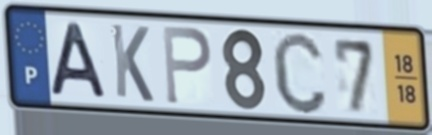7: (331, 37, 378, 115)
8: (219, 26, 269, 113)
A: (48, 19, 110, 102)
C: (269, 28, 330, 117)
K: (108, 20, 156, 106)
P: (159, 23, 214, 108)
